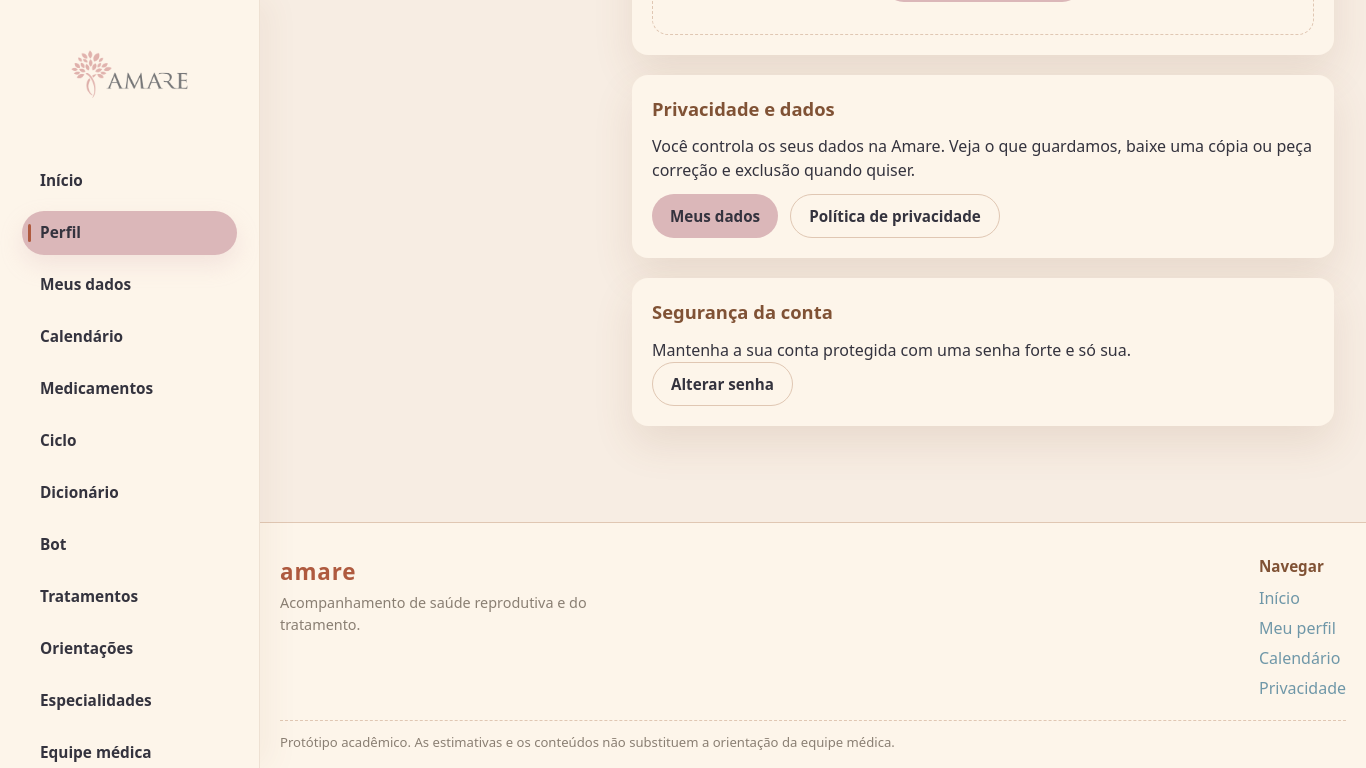
Test: Segurança da conta — alterar senha › abre o modal a partir da secao de seguranca
(page scrolled)
Expected: the element with test id "perfil-seguranca" is shown, [632,278,1334,426]
Click the button with test id "perfil-alterar-senha-abrir".
click(723, 384)  # box [652,362,793,406]
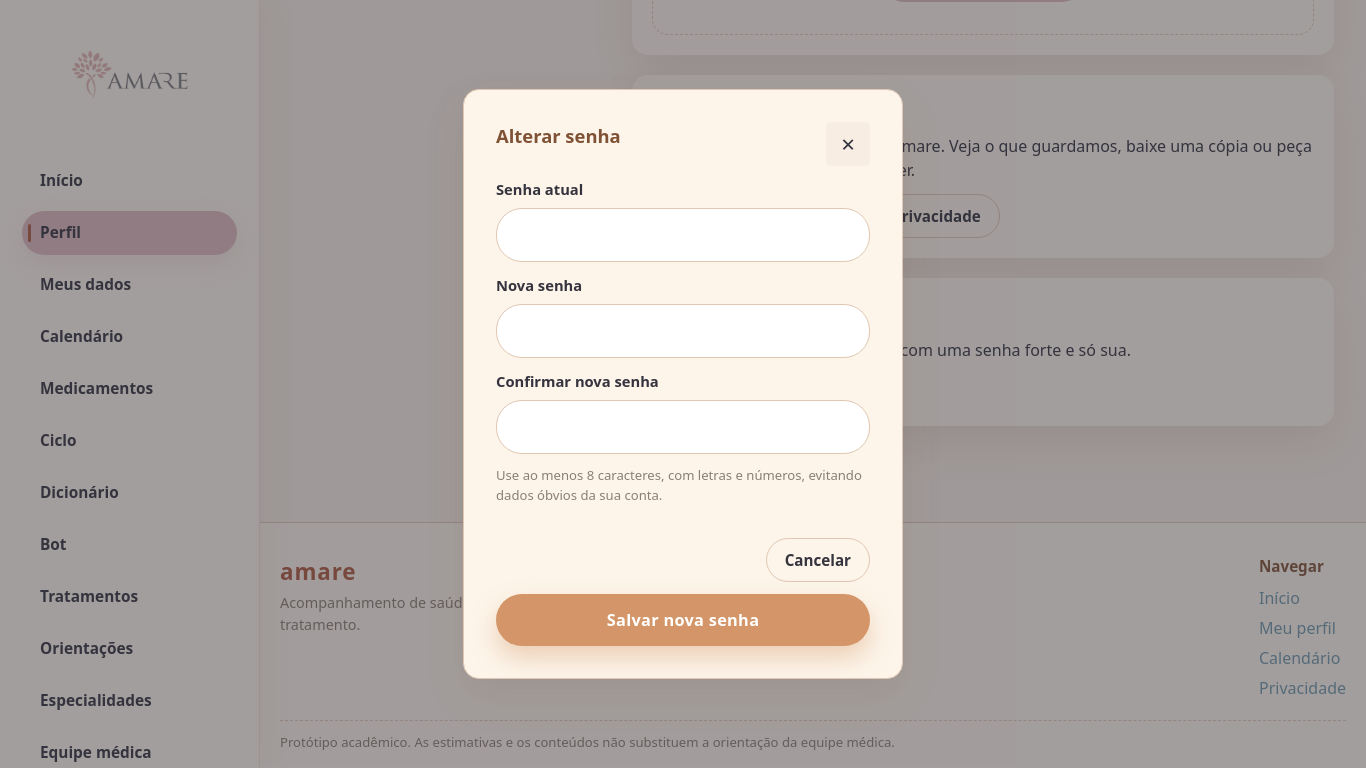
Expected: the dialog with test id "alterar-senha" is shown, [463,89,903,679]
Expected: the password field with test id "alterar-senha-atual" is shown, [517,209,849,261]
